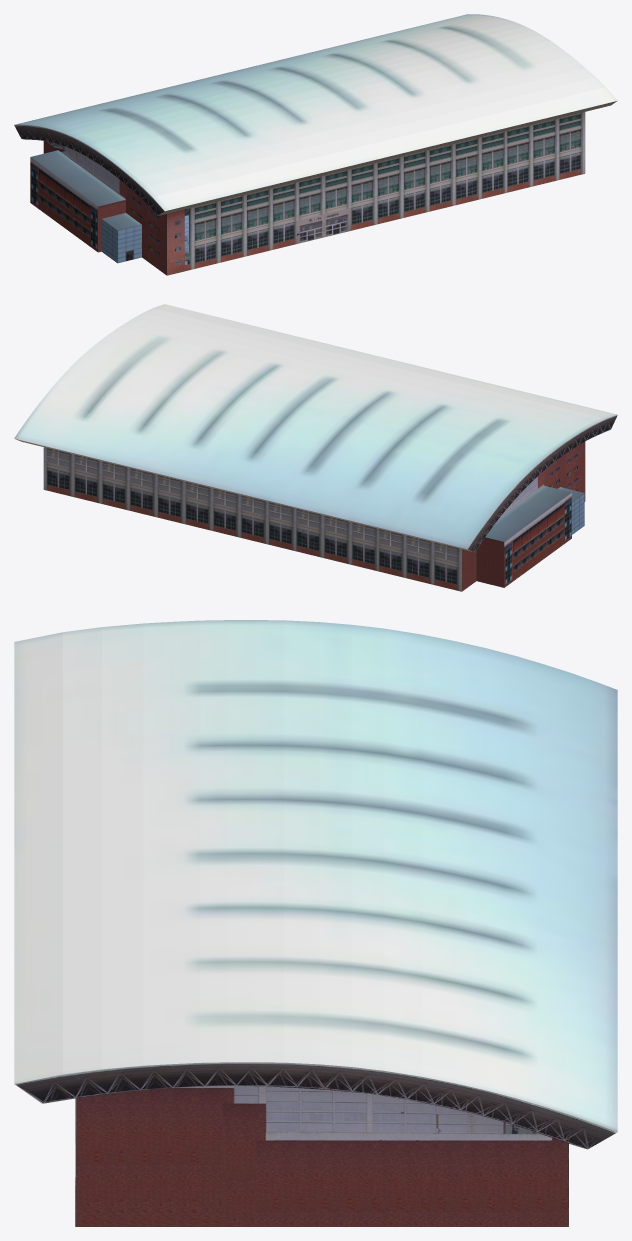
File: tyg.gltf
3 views of the same model, one above another, from view 1: azimuth 30°, elevation 25°; view 2: azimuth 150°, elevation 25°; view 3: azimuth 270°, elevation 25° (orthographic). The views are drawn at different scales.
Visible parts, largest first — view 1: Model#17; view 2: Model#17; view 3: Model#17.
Part boxes in pixels (<box>): Model#17: <box>14,14,617,275</box>; Model#17: <box>14,304,617,591</box>; Model#17: <box>14,620,617,1226</box>.
Size of the model in its own units: 0.133 by 0.0249 by 0.075.
3 materials, 3 textured.
